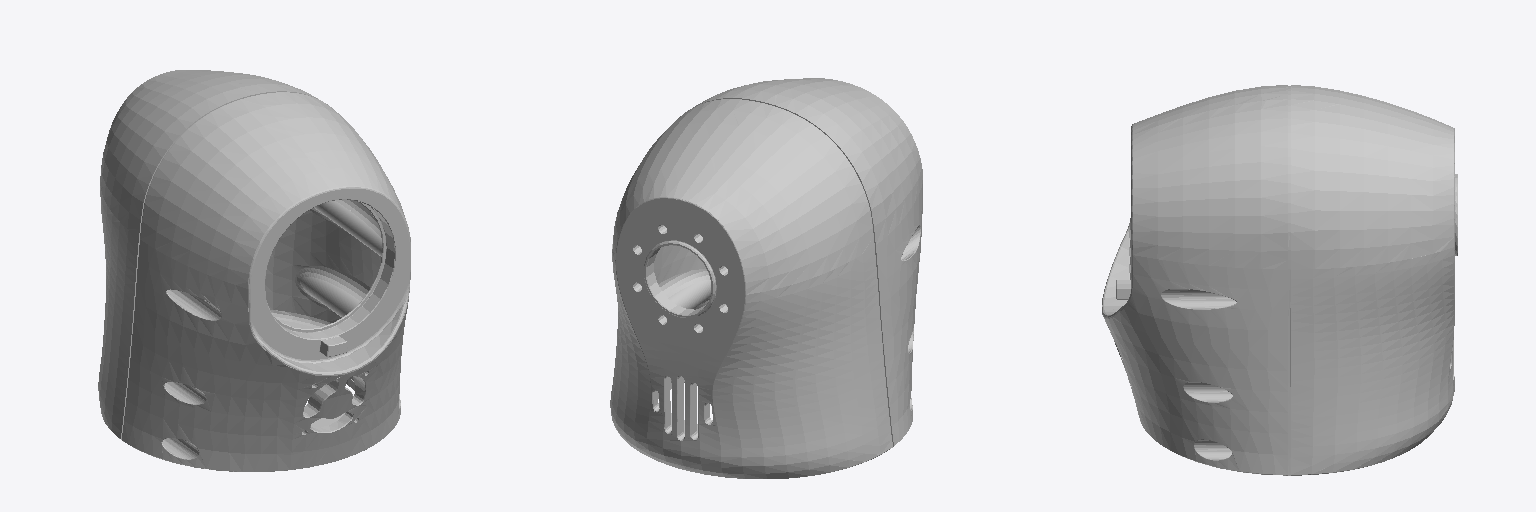
Rendered from cla1_sho1_exo.obj.
The picture shows the model from 3 angles: view 1: azimuth 30°, elevation 25°; view 2: azimuth 150°, elevation 25°; view 3: azimuth 270°, elevation 25°; orthographic projection.
Parts seen in each view (by area): view 1: cla1_sho1_exo; view 2: cla1_sho1_exo; view 3: cla1_sho1_exo.
Boxes of the visible parts, x1,y1,x2,y2 form: cla1_sho1_exo: [98, 70, 410, 471]; cla1_sho1_exo: [610, 78, 922, 478]; cla1_sho1_exo: [1102, 85, 1457, 475].
Size of the model in its own units: 0.1198 by 0.138 by 0.1424.